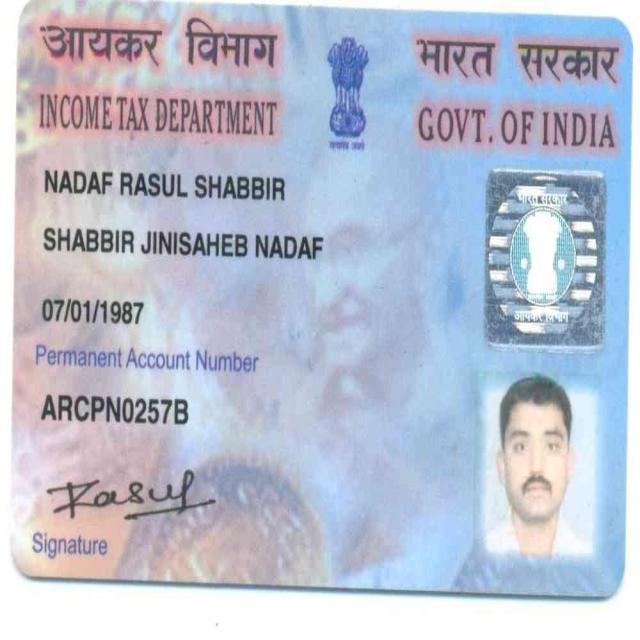pan_card: (13, 6, 629, 590)
